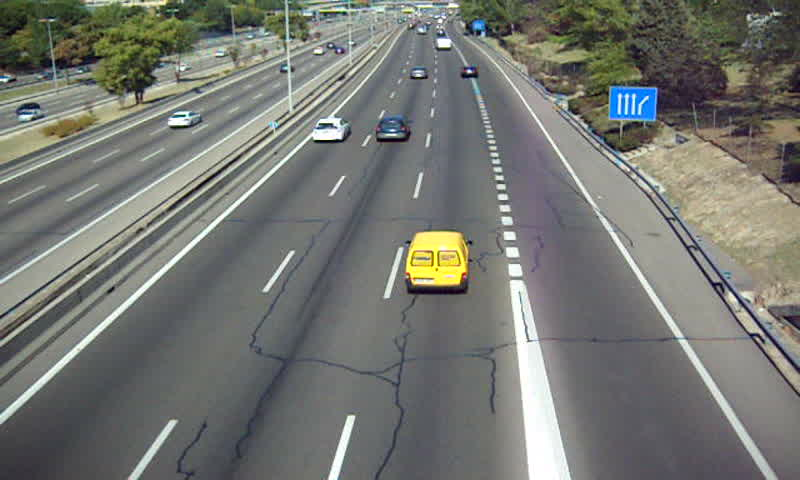car: (311, 117, 352, 140), (376, 117, 410, 142), (409, 66, 429, 82), (460, 66, 480, 80)
van: (404, 231, 469, 293)
